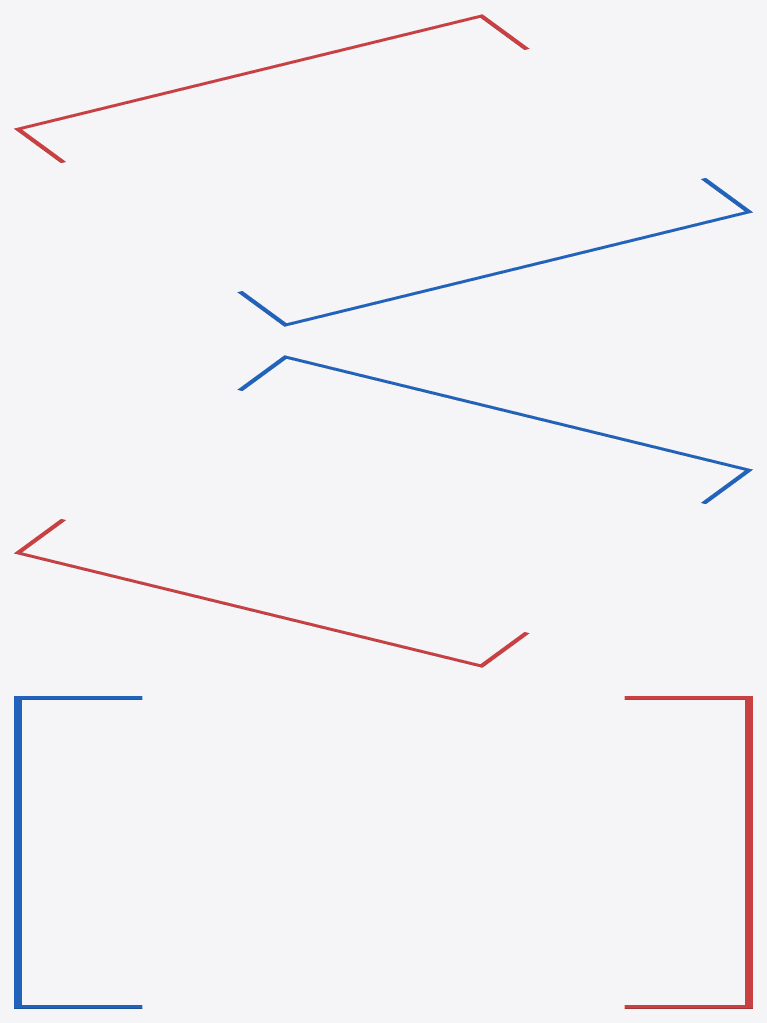
3 renders of one model, top to bottom at view 1: azimuth 30°, elevation 25°; view 2: azimuth 150°, elevation 25°; view 3: azimuth 270°, elevation 25°, orthographic. The views are drawn at different scales.
Bounding box in the file's own units: 93.44 × 0.05 × 93.44.
2 materials, 2 textured.
